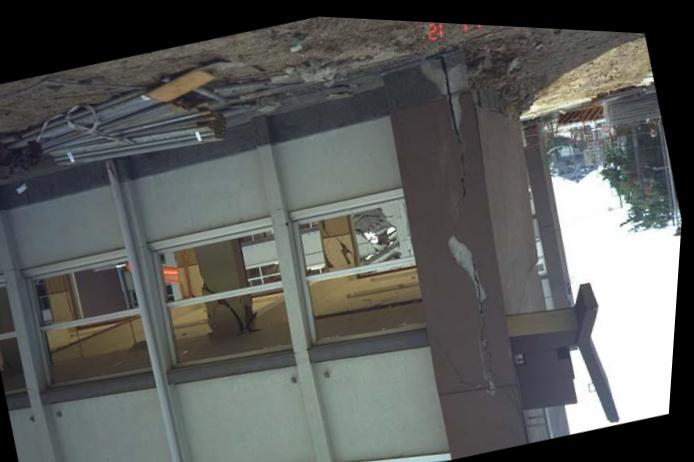crack: (436, 48, 505, 391), (440, 337, 526, 410), (324, 216, 356, 260), (520, 251, 542, 307), (216, 295, 248, 328), (205, 279, 220, 290), (110, 158, 118, 176), (328, 250, 337, 263), (275, 218, 288, 223), (10, 267, 21, 271), (279, 203, 286, 207), (119, 188, 121, 197)
damage: (352, 203, 405, 261), (248, 291, 267, 328)
